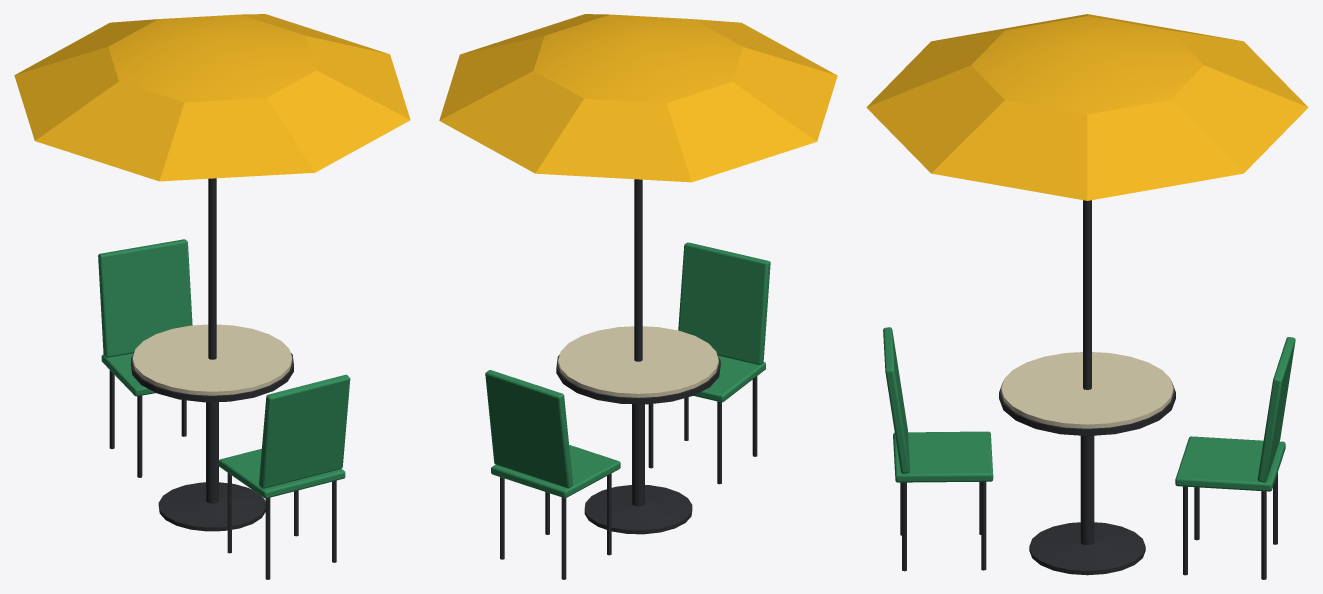
File: bistro_set_b.fbx
3 renders of one model, left to right at view 1: azimuth 30°, elevation 25°; view 2: azimuth 150°, elevation 25°; view 3: azimuth 270°, elevation 25°, orthographic. The views are drawn at different scales.
Visible parts, largest first — view 1: bistro_set_b; view 2: bistro_set_b; view 3: bistro_set_b.
Part boxes in pixels (x1,y1,x2,y2): bistro_set_b: [14, 14, 410, 579]; bistro_set_b: [439, 14, 837, 579]; bistro_set_b: [866, 14, 1308, 579].
Size of the model in its own units: 1.9 by 2.4 by 1.9.
